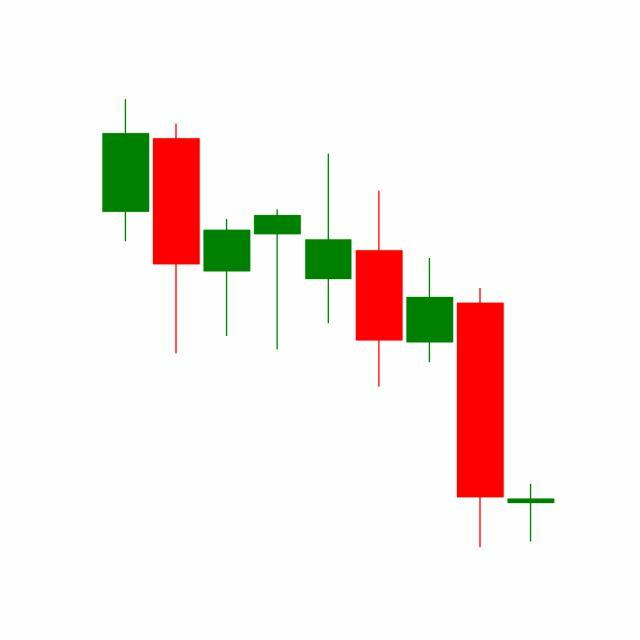Hikkake Pattern: (252, 149, 506, 549)
